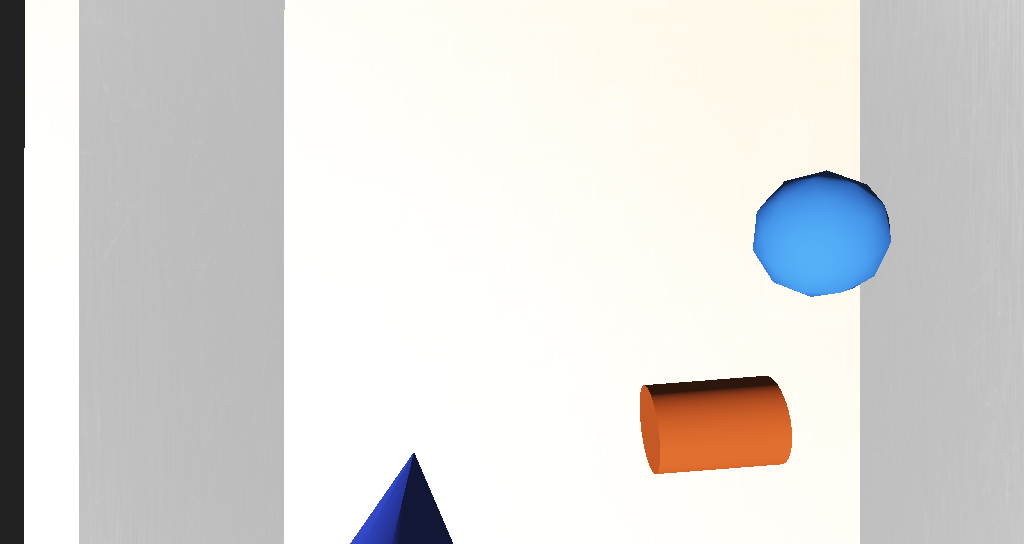cone: (542, 305, 616, 344)
cylinder: (384, 315, 451, 391)
sphere: (593, 236, 660, 279)
